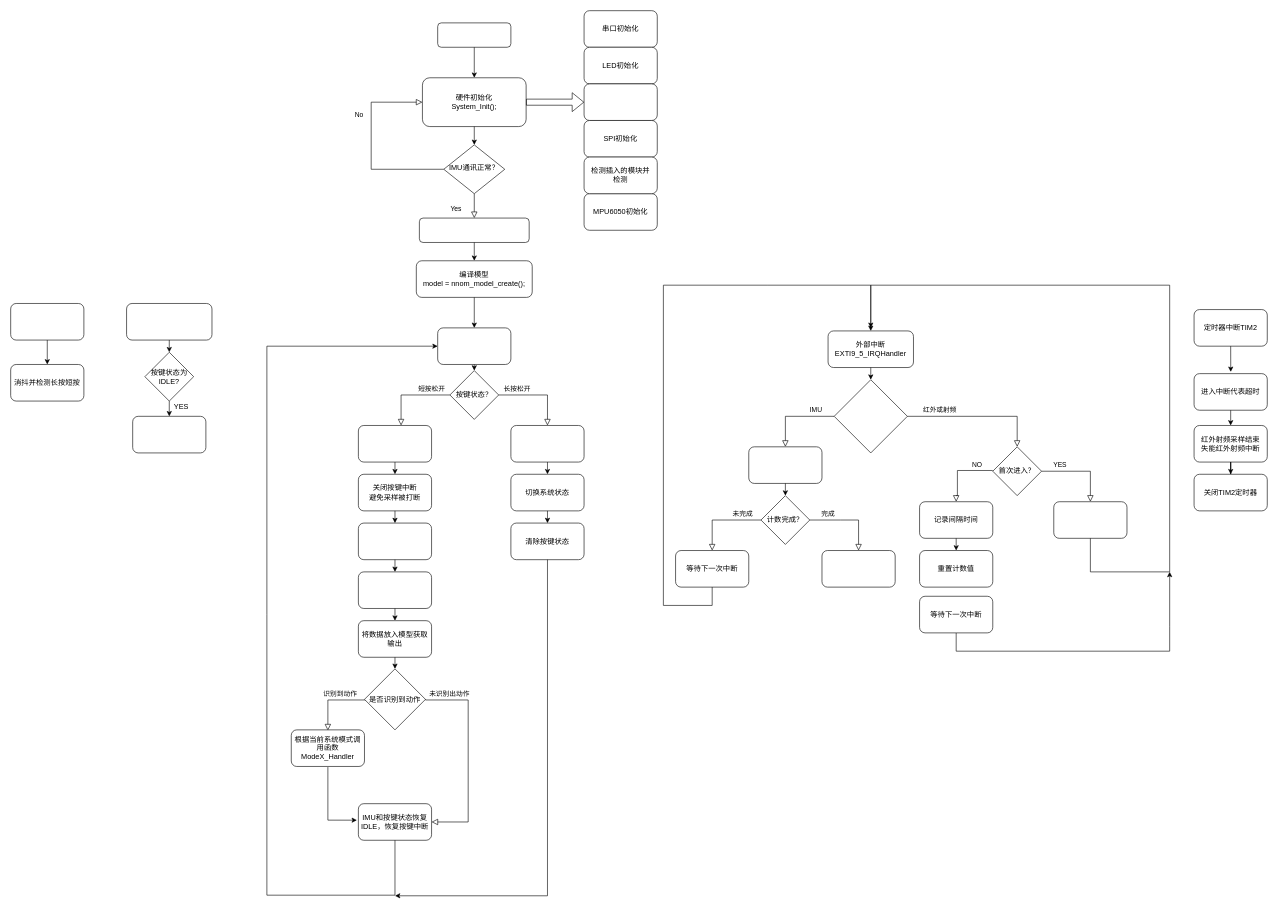
The diagram is 1278 pixels wide and 911 high, and some of its shapes have lost their labels. Here are the shapes that lost their labels. From the top down, the centre of each, then its label:
(x=474, y=34): 上电
(x=620, y=101): 按键初始化
(x=474, y=229): LED快速闪烁 LED.Operate(BLINK_10HZ);
(x=47, y=321): TIM4中断
(x=169, y=321): 外部中断 EXTI0_IRQHandler
(x=474, y=345): 主循环
(x=169, y=434): 使能按键定时器TIM4
(x=870, y=416): IMU中断？ 红外射频中断？
(x=395, y=443): 允许从MPU6050采样 使能PB5外部中断
(x=547, y=443): LED快速闪烁
(x=785, y=464): 读取数据并增加计数
(x=1090, y=519): 开始记录 使能TIM2定时器
(x=395, y=541): 采样时关闭LED
(x=858, y=568): 结束采样，失能PB5 外部中断
(x=395, y=589): 等待1.5秒的采样完成
